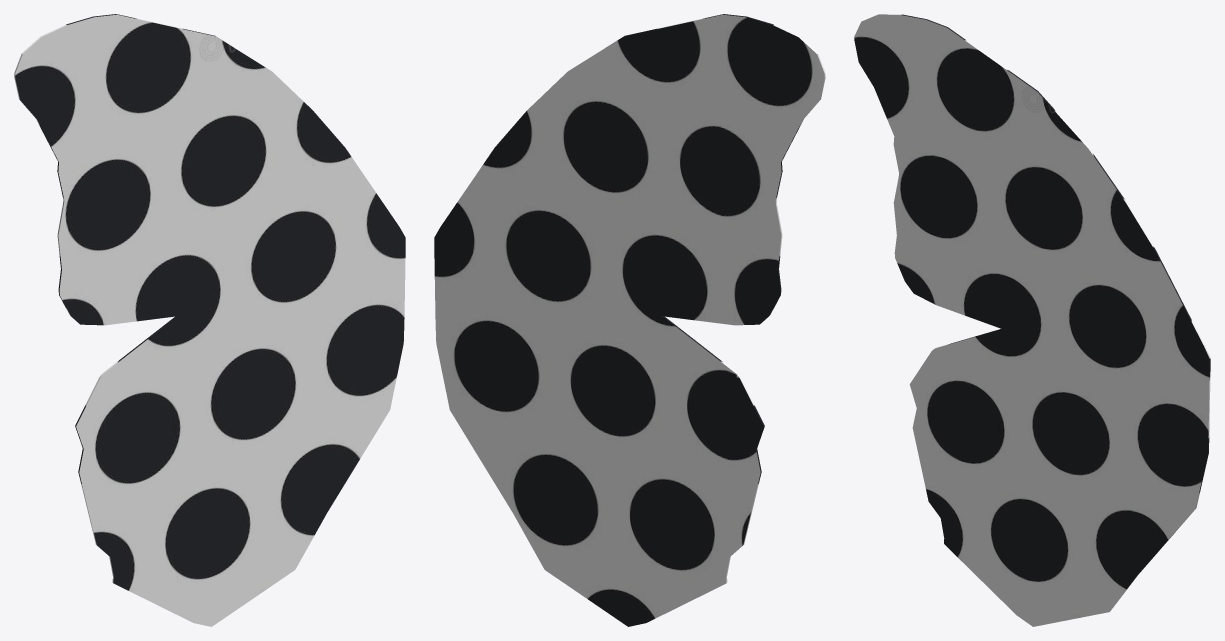
The model's file is ala_izquierda.obj.
3 renders of one model, left to right at view 1: azimuth 30°, elevation 25°; view 2: azimuth 150°, elevation 25°; view 3: azimuth 330°, elevation 25°, orthographic. The views are drawn at different scales.
Parts seen in each view (by area): view 1: butterfly_01:wing_02; view 2: butterfly_01:wing_02; view 3: butterfly_01:wing_02.
Boxes of the visible parts, bbox=[...] form: butterfly_01:wing_02: bbox=[14, 14, 405, 626]; butterfly_01:wing_02: bbox=[434, 14, 825, 626]; butterfly_01:wing_02: bbox=[854, 14, 1210, 626].
Size of the model in its own units: 2.36 by 3.69 by 0.0102.
1 material, 1 textured.
